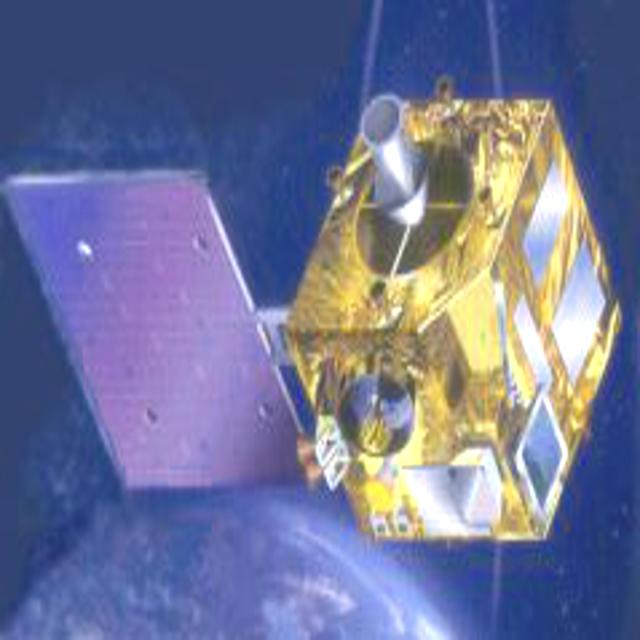satellite: (0, 79, 622, 558)
